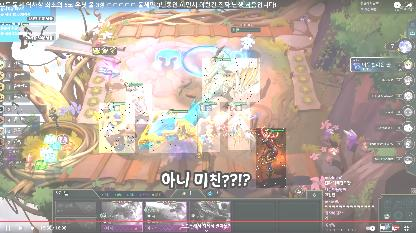3_aoshin: (149, 111, 197, 153)
3_bard: (99, 103, 135, 153)
3_joy: (198, 102, 220, 152)
3_shyvana: (256, 128, 286, 188)
3_soraka: (228, 102, 250, 150)
3_terra: (202, 58, 260, 102)
3_yasuo: (126, 84, 152, 124)
